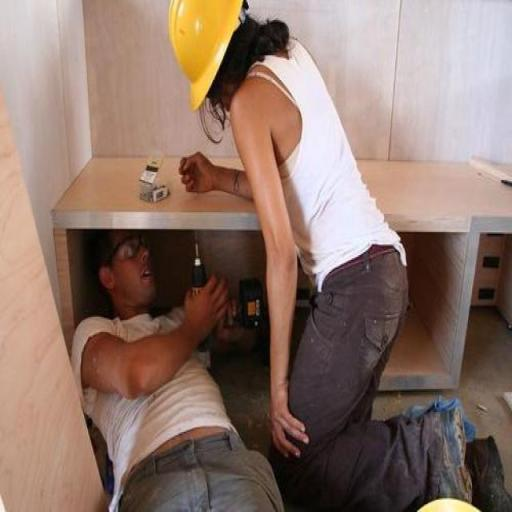helmet: (163, 2, 249, 115)
